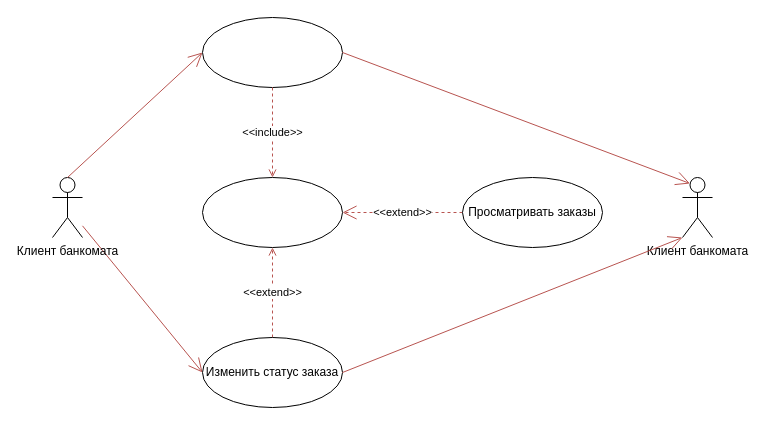
The diagram is 765 pixels wide and 425 high, and some of its shapes have lost their labels. Each missing label, with the centre of its shape:
"Оформить заказ" belongs at (x=272, y=212).
"Просмотр каталога" belongs at (x=272, y=52).
